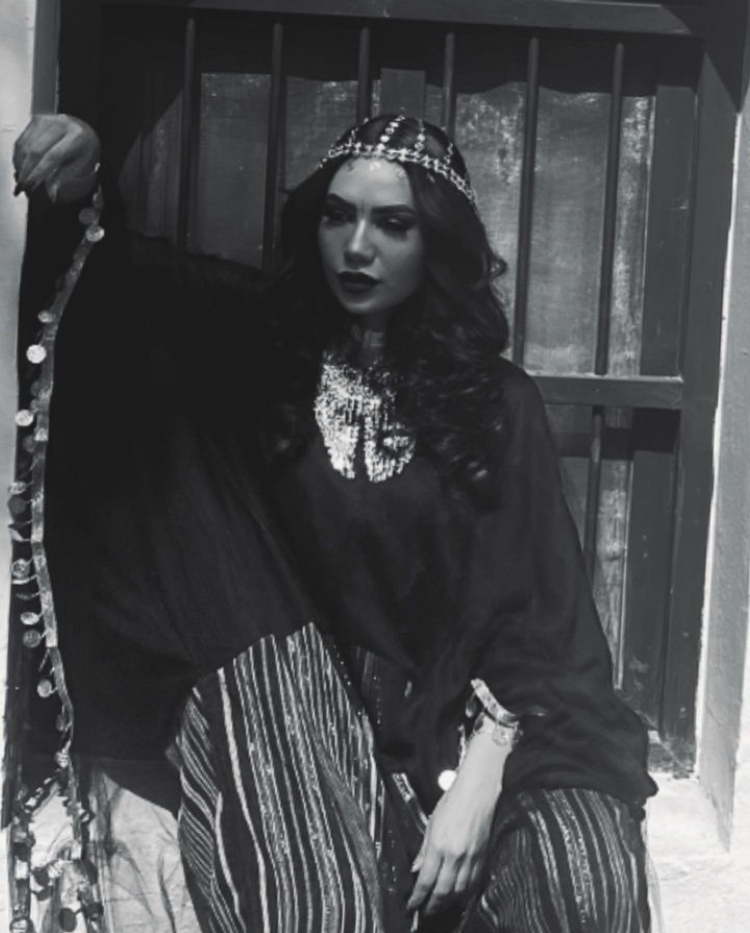Saudi_Founding_Day: (1, 106, 678, 933)
